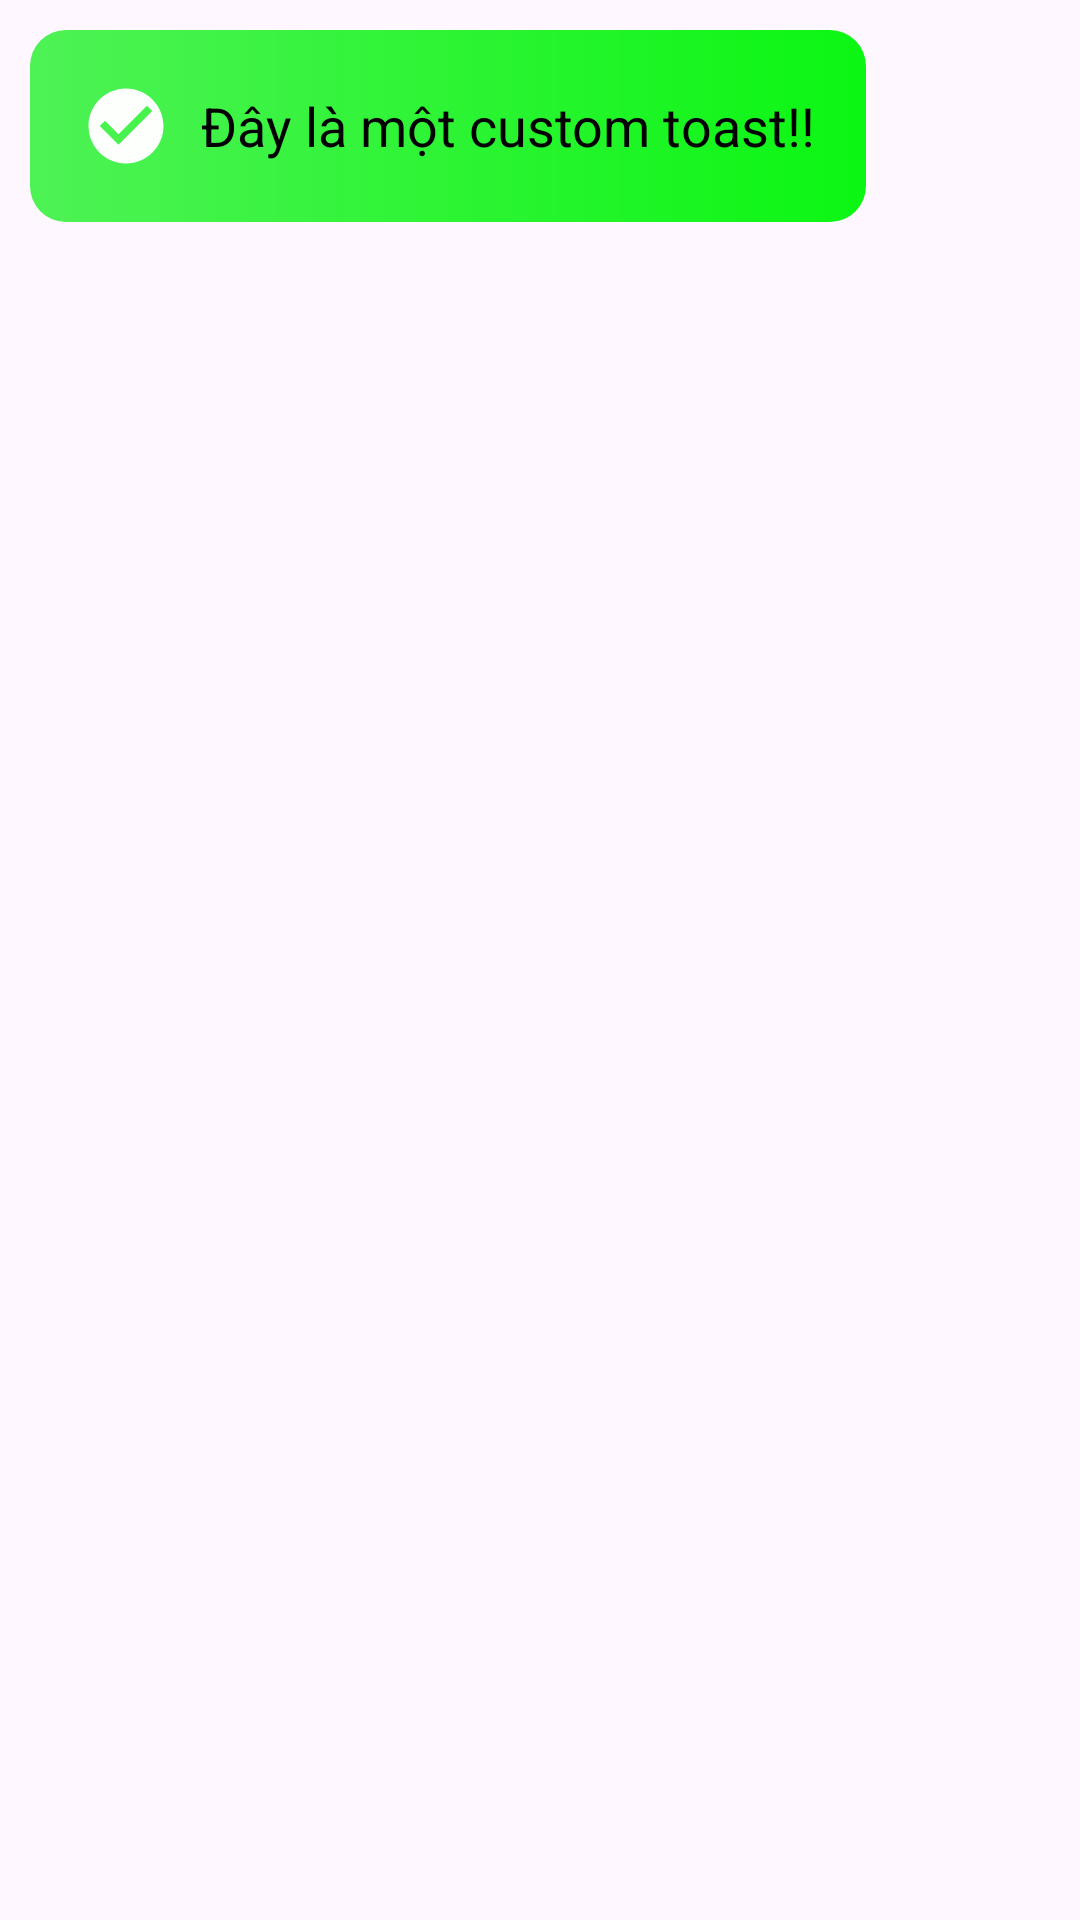

Where icons sit on this 1080px x 1920px app screen, as bbox(x1, y1, x2, y2):
check circle: bbox(88, 88, 164, 164)
